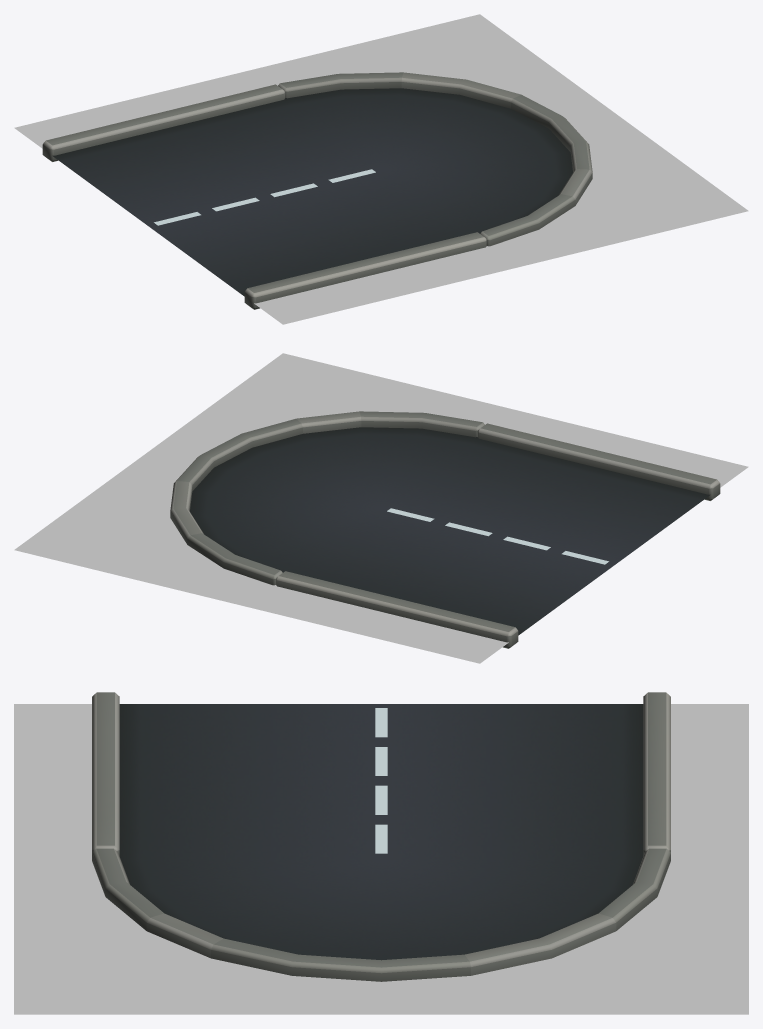
File: road_section_dead_end.fbx
3 views of the same model, one above another, from view 1: azimuth 30°, elevation 25°; view 2: azimuth 150°, elevation 25°; view 3: azimuth 270°, elevation 25° (orthographic). The views are drawn at different scales.
Visible parts, largest first — view 1: road_section_dead_end, road_section_dead_end_sidewalk; view 2: road_section_dead_end, road_section_dead_end_sidewalk; view 3: road_section_dead_end, road_section_dead_end_sidewalk.
Part boxes in pixels (box(x1,y1,x2,y2)): road_section_dead_end: box(42, 72, 592, 309); road_section_dead_end_sidewalk: box(14, 14, 748, 324); road_section_dead_end: box(170, 411, 720, 648); road_section_dead_end_sidewalk: box(14, 353, 748, 663); road_section_dead_end: box(92, 692, 670, 981); road_section_dead_end_sidewalk: box(14, 704, 748, 1014).
Bounding box in the file's own units: 1605 × 55 × 1600.
